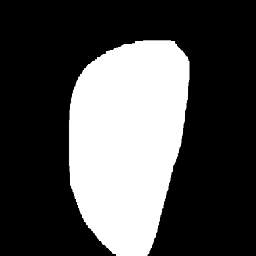mass: (68, 40, 188, 254)
